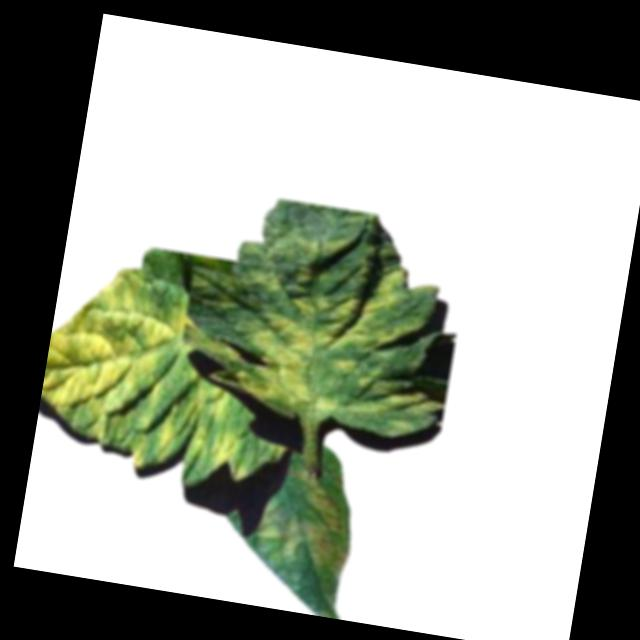Leaf_Mold: (33, 256, 266, 481), (234, 224, 465, 436), (253, 464, 361, 577)
